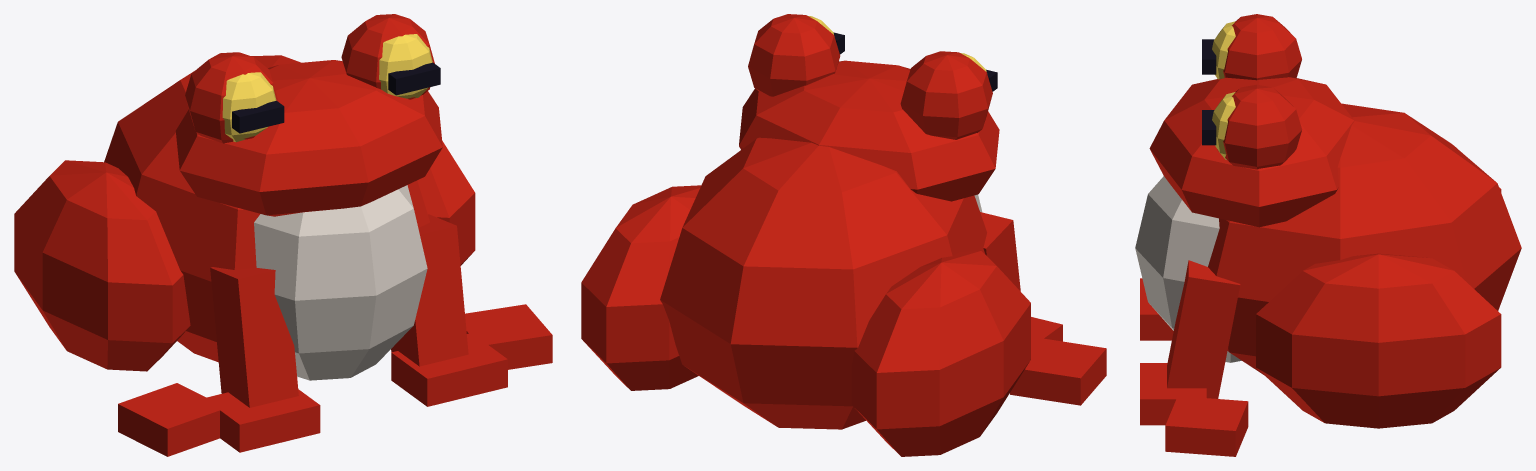
The model's file is frog_red.glb.
3 views of the same model, side by side, from view 1: azimuth 30°, elevation 25°; view 2: azimuth 150°, elevation 25°; view 3: azimuth 270°, elevation 25° (orthographic). The views are drawn at different scales.
Visible parts, largest first — view 1: Frog; view 2: Frog; view 3: Frog.
Part boxes in pixels (x1,y1,x2,y2): Frog: (14, 14, 552, 456); Frog: (581, 14, 1106, 456); Frog: (1135, 14, 1521, 456).
Bounding box in the file's own units: 0.9138 × 0.75 × 0.81.
